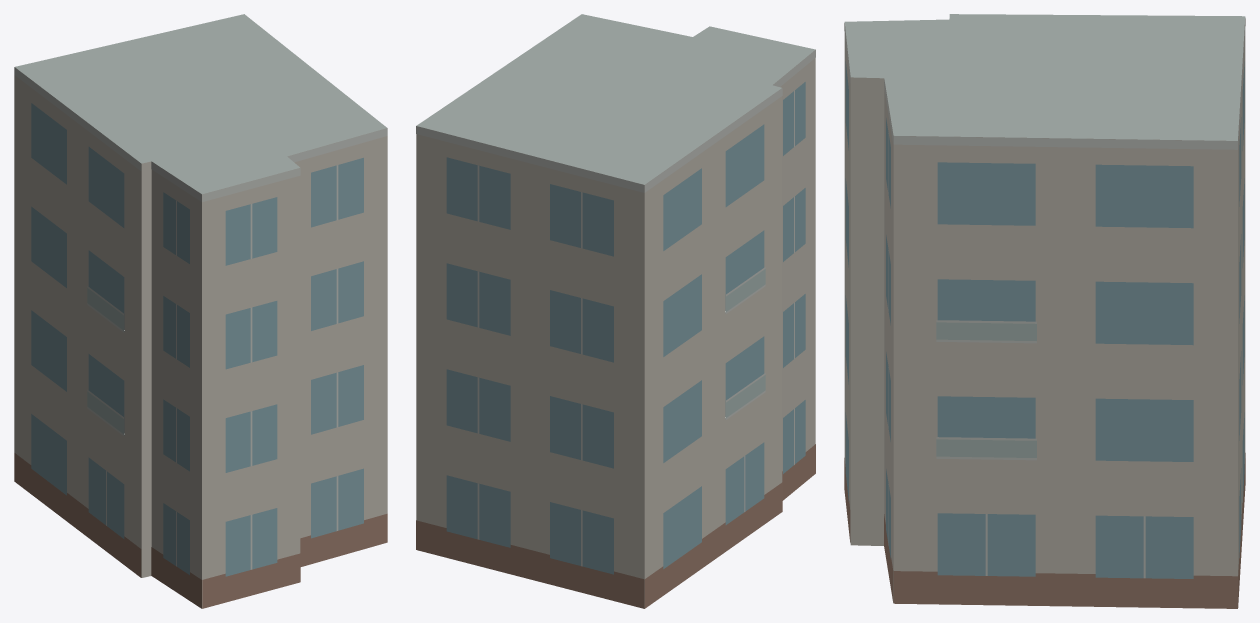
The model's file is survey-upis-32464977.glb.
3 views of the same model, side by side, from view 1: azimuth 30°, elevation 25°; view 2: azimuth 150°, elevation 25°; view 3: azimuth 270°, elevation 25° (orthographic). The views are drawn at different scales.
Visible parts, largest first — view 1: survey-upis-32464977.tmp; view 2: survey-upis-32464977.tmp; view 3: survey-upis-32464977.tmp.
Part boxes in pixels (x1,y1,x2,y2): survey-upis-32464977.tmp: (14, 14, 387, 608); survey-upis-32464977.tmp: (416, 14, 815, 608); survey-upis-32464977.tmp: (844, 14, 1245, 608).
Size of the model in its own units: 7.48 by 12.8 by 9.95.
